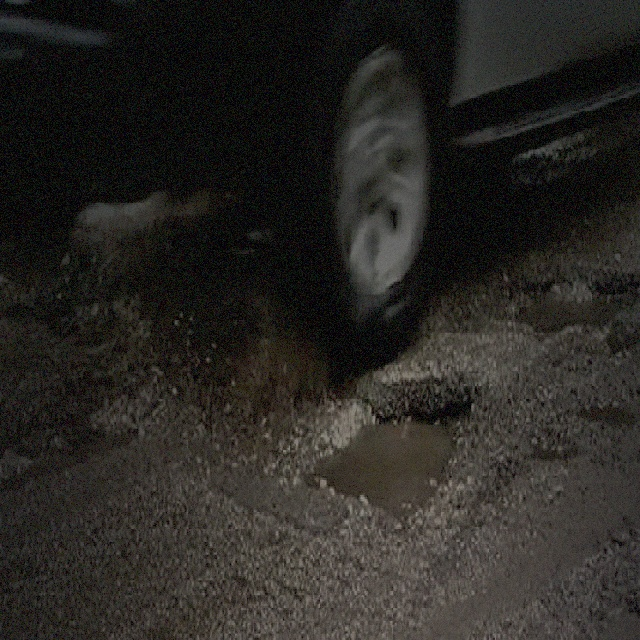pothole: (292, 375, 470, 527), (504, 262, 638, 360), (528, 420, 576, 463), (587, 601, 639, 638), (573, 399, 637, 429)
